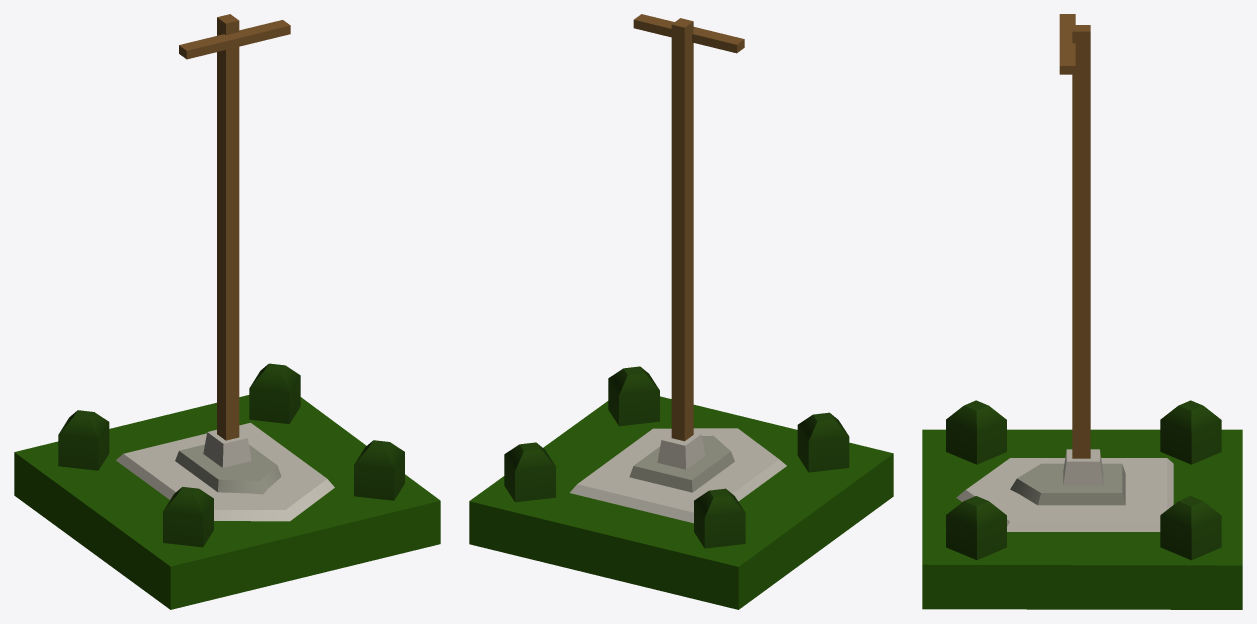
Rendered from park_banner.fbx.
3 views of the same model, side by side, from view 1: azimuth 30°, elevation 25°; view 2: azimuth 150°, elevation 25°; view 3: azimuth 270°, elevation 25° (orthographic). The views are drawn at different scales.
Visible parts, largest first — view 1: tree:tree:treetemp:treetemp:tree:tree:treetemp:treetemp:poly; view 2: tree:tree:treetemp:treetemp:tree:tree:treetemp:treetemp:poly; view 3: tree:tree:treetemp:treetemp:tree:tree:treetemp:treetemp:poly.
Boxes of the visible parts, <box> form: tree:tree:treetemp:treetemp:tree:tree:treetemp:treetemp:poly: <box>14,14,440,609</box>; tree:tree:treetemp:treetemp:tree:tree:treetemp:treetemp:poly: <box>469,14,893,609</box>; tree:tree:treetemp:treetemp:tree:tree:treetemp:treetemp:poly: <box>922,14,1242,609</box>.
Size of the model in its own units: 100 by 177 by 100.
Materials: 1 (1 with a texture image).
